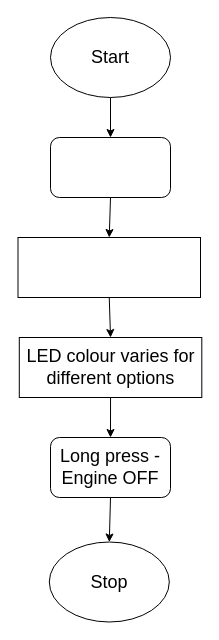
This 219x640 diagram has some shape labels left out. Each missing label, with the centre of its shape:
Engine ON: [110,167]
Speed change according to press: [108,267]
